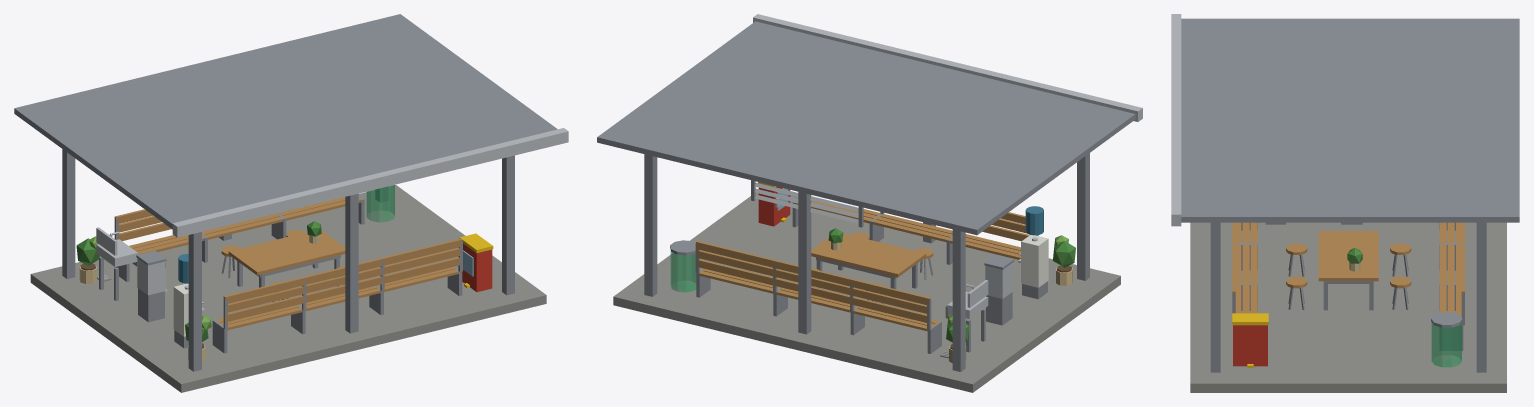
File: rest_shed.glb
3 views of the same model, side by side, from view 1: azimuth 30°, elevation 25°; view 2: azimuth 150°, elevation 25°; view 3: azimuth 270°, elevation 25° (orthographic). The views are drawn at different scales.
Visible parts, largest first — view 1: RestShed; view 2: RestShed; view 3: RestShed.
Boxes of the visible parts, x1,y1,x2,y2 form: RestShed: [14, 14, 568, 392]; RestShed: [597, 14, 1142, 392]; RestShed: [1171, 14, 1519, 392].
Bounding box in the file's own units: 7.5 × 3.22 × 5.5.
